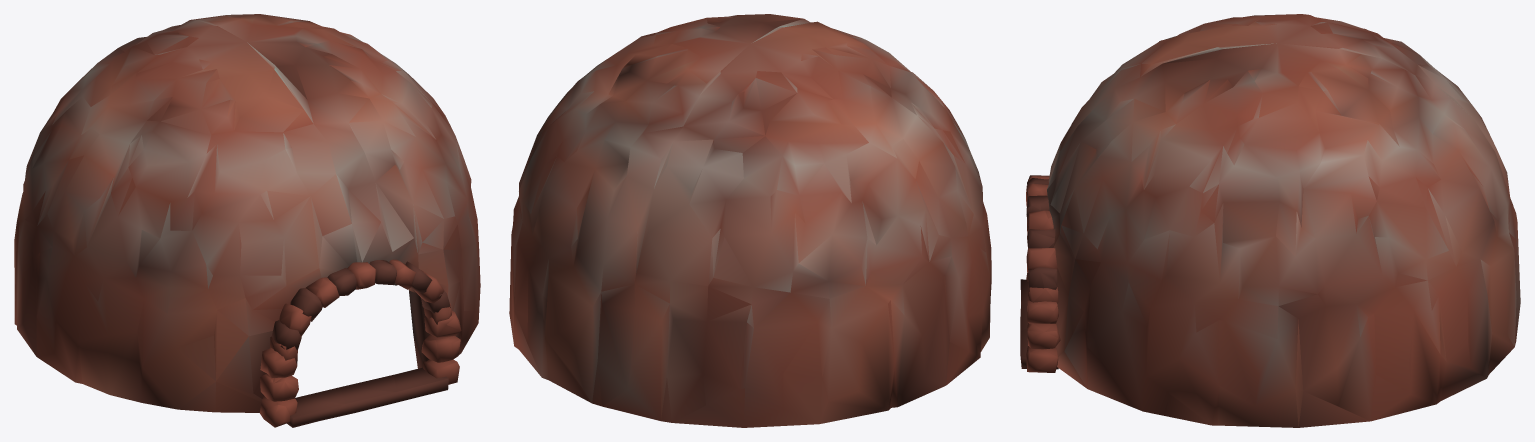
The model's file is ember_oven_dome_lod2.glb.
3 renders of one model, left to right at view 1: azimuth 30°, elevation 25°; view 2: azimuth 150°, elevation 25°; view 3: azimuth 270°, elevation 25°, orthographic. The views are drawn at different scales.
Visible parts, largest first — view 1: ember_oven_dome.001; view 2: ember_oven_dome.001; view 3: ember_oven_dome.001.
Part boxes in pixels (<box>): ember_oven_dome.001: <box>14,14,480,427</box>; ember_oven_dome.001: <box>509,14,991,427</box>; ember_oven_dome.001: <box>1020,14,1520,427</box>.
Size of the model in its own units: 35.93 by 23.55 by 37.13.
